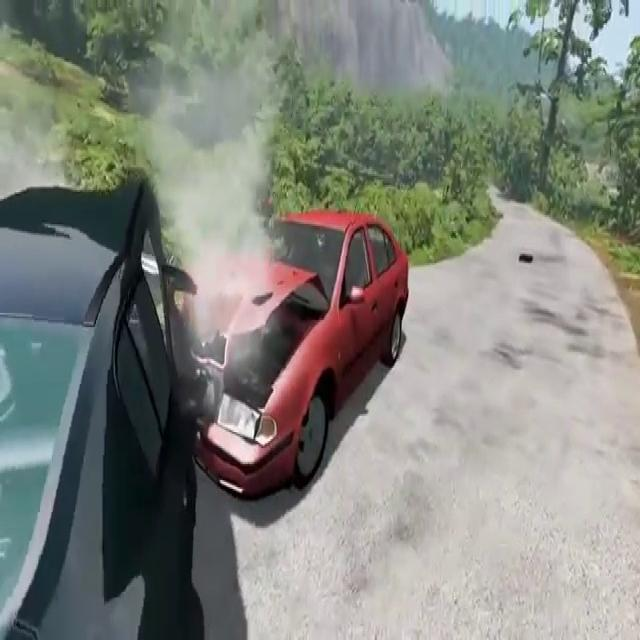moderate: (0, 153, 412, 640)
